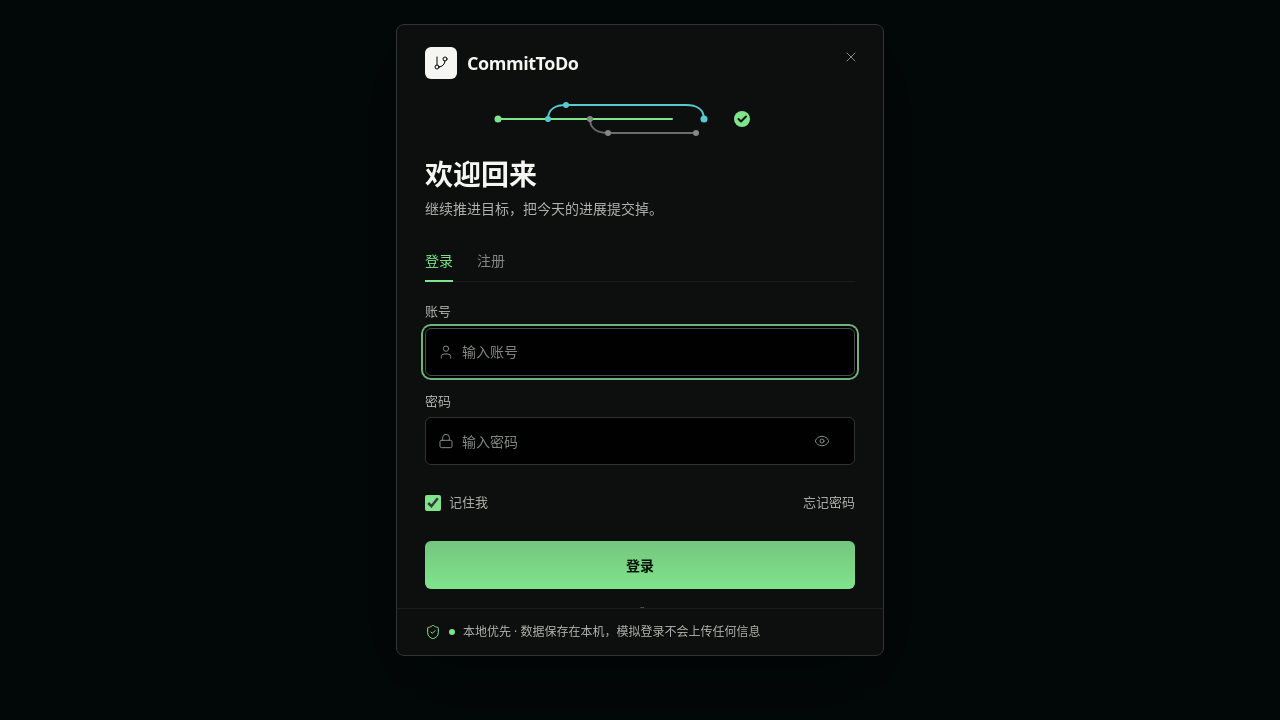
Test case: AuthDialog login behavior › shows field errors and does not navigate on empty submit
The width and height of the screenshot is (1280, 720).
Click the button "登录".
click(640, 565)  # box [425,541,855,589]
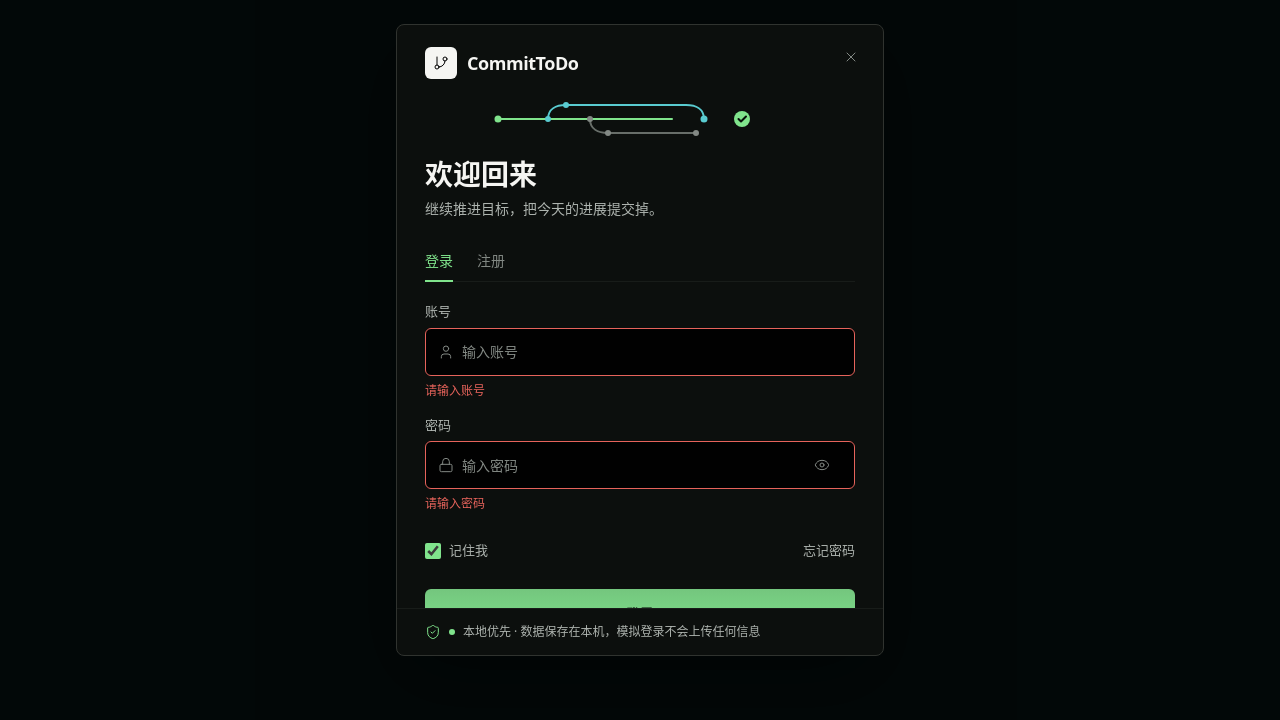
Now the text "请输入账号" is shown, box [425,382,485,398]
Now the text "请输入密码" is shown, box [425,495,485,512]
